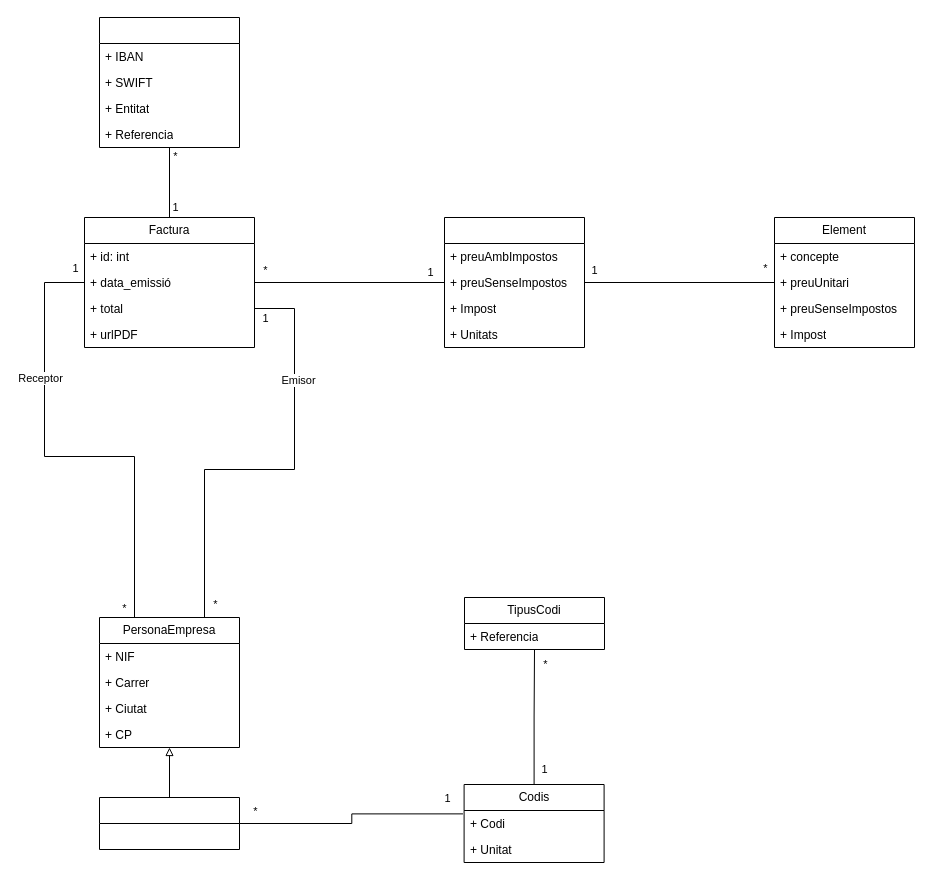
The diagram is 932 pixels wide and 883 high, and some of its shapes have lost their labels. The box of each missing label's shape, as (x1, y1, x2, y2) in pixels:
CompteBancari: (98, 16, 240, 148)
ElementFactura: (444, 216, 584, 348)
EmpresaPública: (98, 796, 240, 850)
